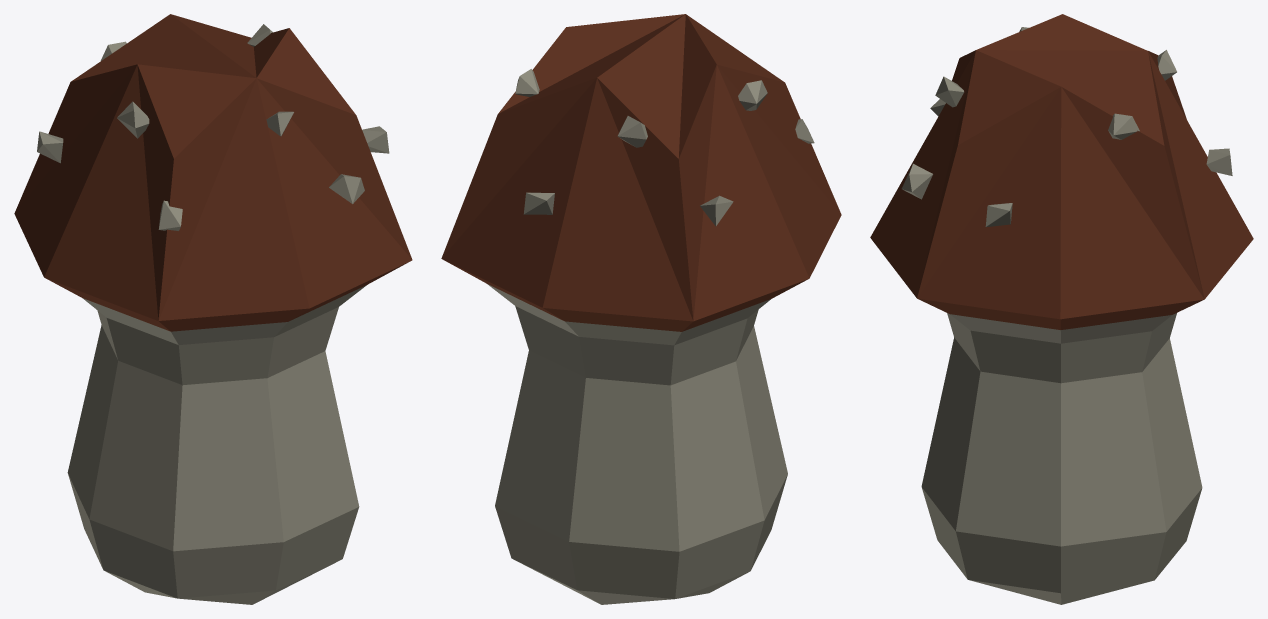
The model's file is plant_mushroom_small_1.glb.
The picture shows the model from 3 angles, left to right: view 1: azimuth 30°, elevation 25°; view 2: azimuth 150°, elevation 25°; view 3: azimuth 270°, elevation 25°; orthographic projection.
Visible parts, largest first — view 1: plant_mushroom_small_1; view 2: plant_mushroom_small_1; view 3: plant_mushroom_small_1.
Boxes of the visible parts, x1=… form: plant_mushroom_small_1: x1=14, y1=14, x2=412, y2=604; plant_mushroom_small_1: x1=441, y1=14, x2=841, y2=604; plant_mushroom_small_1: x1=870, y1=14, x2=1253, y2=604.
Size of the model in its own units: 0.2214 by 0.339 by 0.2214.
